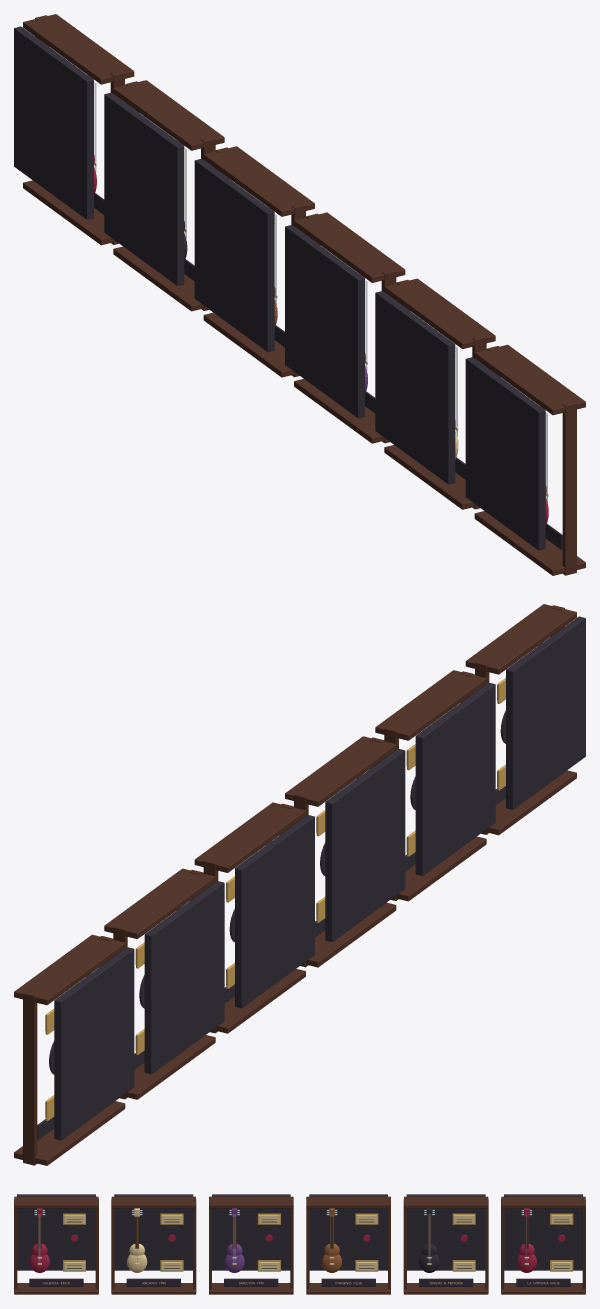
File: museum.glb
The picture shows the model from 3 angles, top to bottom: view 1: azimuth 30°, elevation 25°; view 2: azimuth 150°, elevation 25°; view 3: azimuth 270°, elevation 25°; orthographic projection. The views are drawn at different scales.
Visible parts, largest first — view 1: Premium_museum_velvet instrument niche, Premium_museum_timber cabinet jamb, Premium_museum_guitar strings; view 2: Premium_museum_velvet instrument niche, Premium_museum_timber cabinet jamb, Premium_museum_ticket frame; view 3: Premium_museum_velvet instrument niche, Premium_museum_timber cabinet jamb, Premium_museum_guitar pickup, Premium_museum_ticket frame, Premium_museum_guitar lower bout, Premium_museum_guitar strings, Premium_museum_guitar lower bout.002, Premium_museum_guitar lower bout.003.
Part boxes in pixels (left/top/right/bottom): Premium_museum_velvet instrument niche: left=14, top=26, right=562, bottom=550; Premium_museum_timber cabinet jamb: left=23, top=14, right=585, bottom=575; Premium_museum_guitar strings: left=94, top=82, right=547, bottom=502; Premium_museum_velvet instrument niche: left=37, top=616, right=585, bottom=1140; Premium_museum_timber cabinet jamb: left=14, top=604, right=576, bottom=1165; Premium_museum_ticket frame: left=45, top=678, right=505, bottom=1121; Premium_museum_velvet instrument niche: left=17, top=1194, right=582, bottom=1286; Premium_museum_timber cabinet jamb: left=14, top=1196, right=585, bottom=1294; Premium_museum_guitar pickup: left=37, top=1208, right=571, bottom=1284; Premium_museum_ticket frame: left=63, top=1213, right=573, bottom=1271; Premium_museum_guitar lower bout: left=29, top=1208, right=565, bottom=1272; Premium_museum_guitar strings: left=34, top=1209, right=532, bottom=1261; Premium_museum_guitar lower bout.002: left=224, top=1208, right=244, bottom=1272; Premium_museum_guitar lower bout.003: left=322, top=1208, right=341, bottom=1272.
Bounding box in the file's own units: 0.605 × 2.18 × 12.33.
